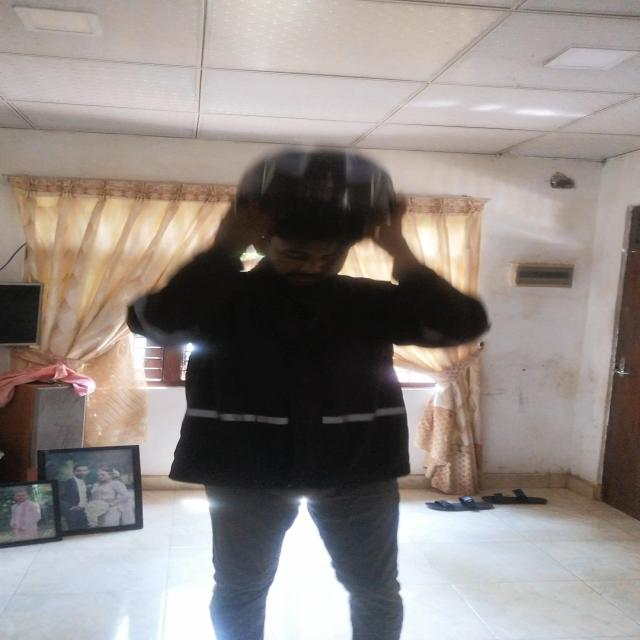Jacket_Wearer: (126, 261, 501, 497)
Person: (124, 206, 505, 640)
